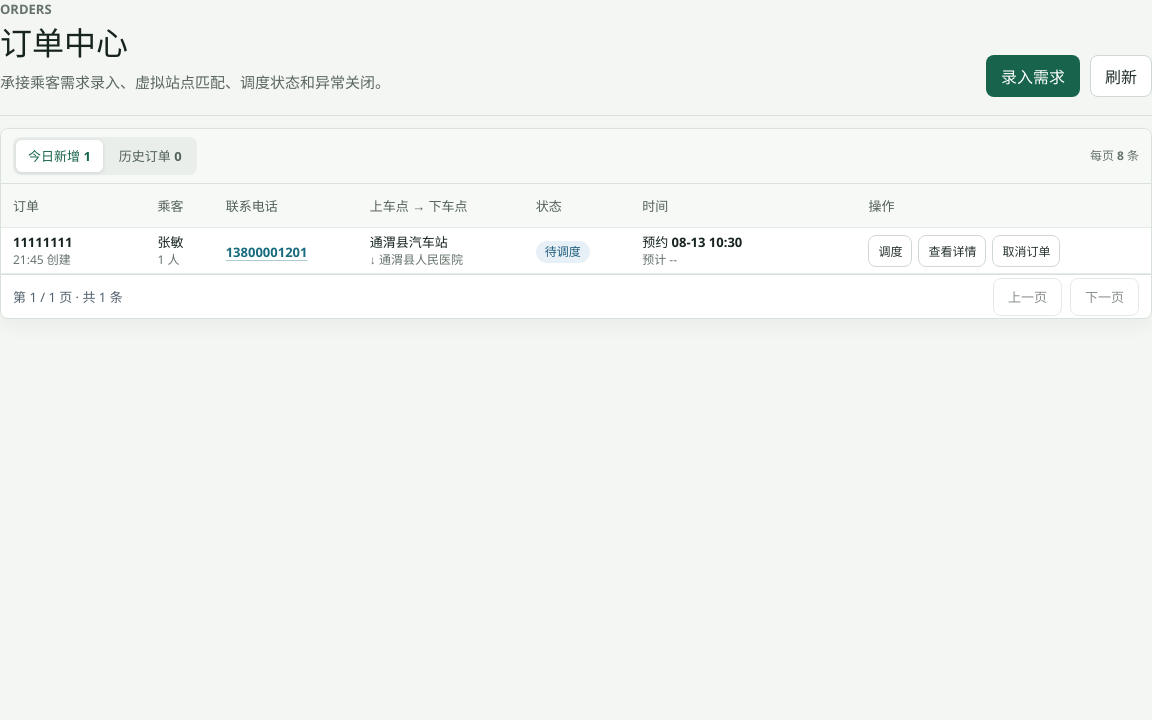
Test: OrdersPage › 确认前不取消订单，并提交填写的原因后显示成功 Toast
The image size is (1152, 720).
Click the button "取消订单" at (1026, 251), box [992,235,1060,267]
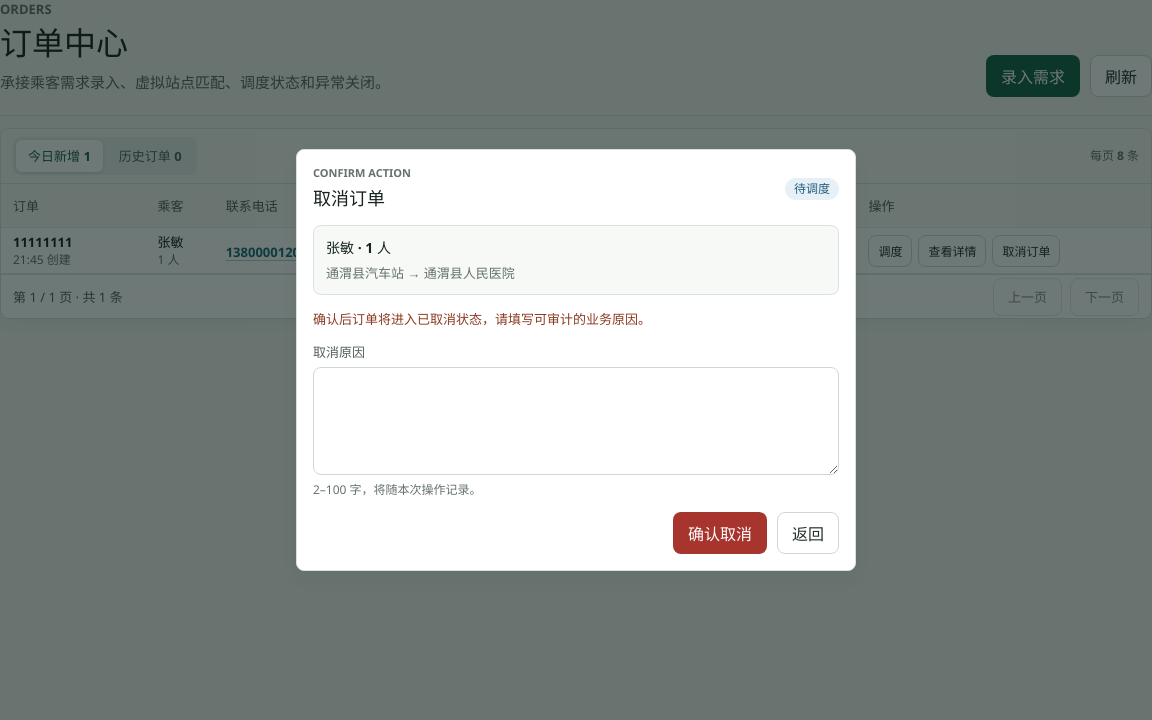
Expected: the dialog "取消订单" is shown, [296,149,856,571]
Type "乘客临时调整行程" into the text box labelled "取消原因" at (576, 421), box [313,367,839,475]
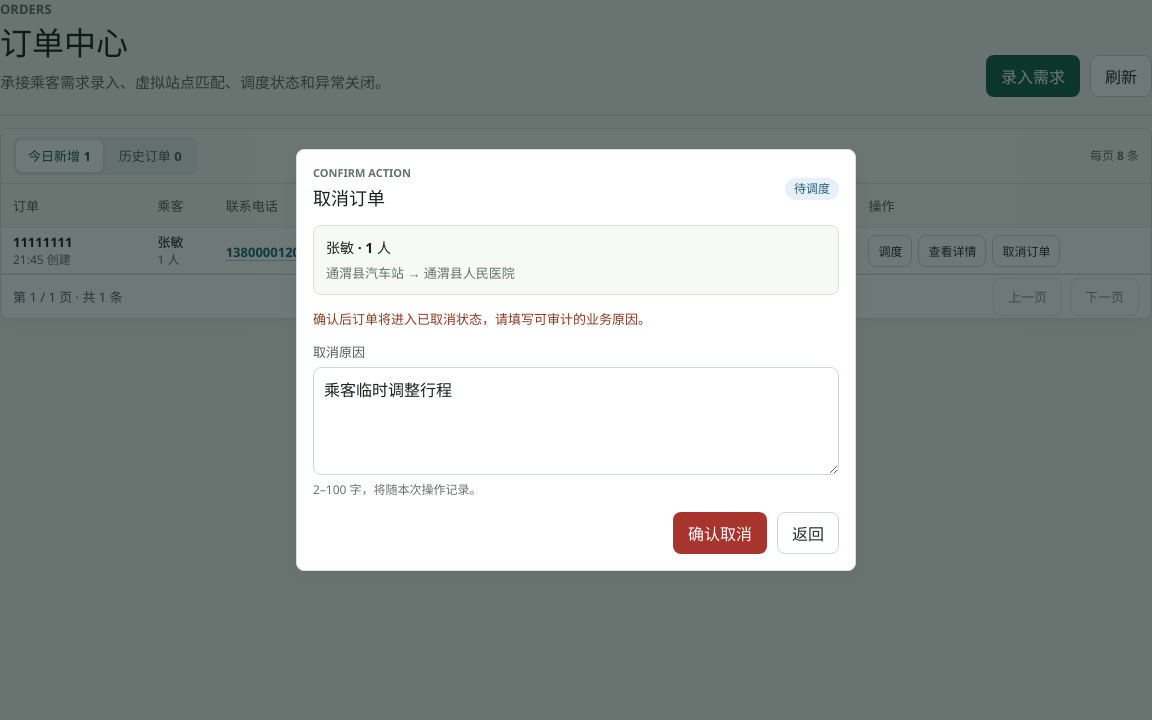
Click the button "确认取消" at (720, 533), box [673,512,767,554]
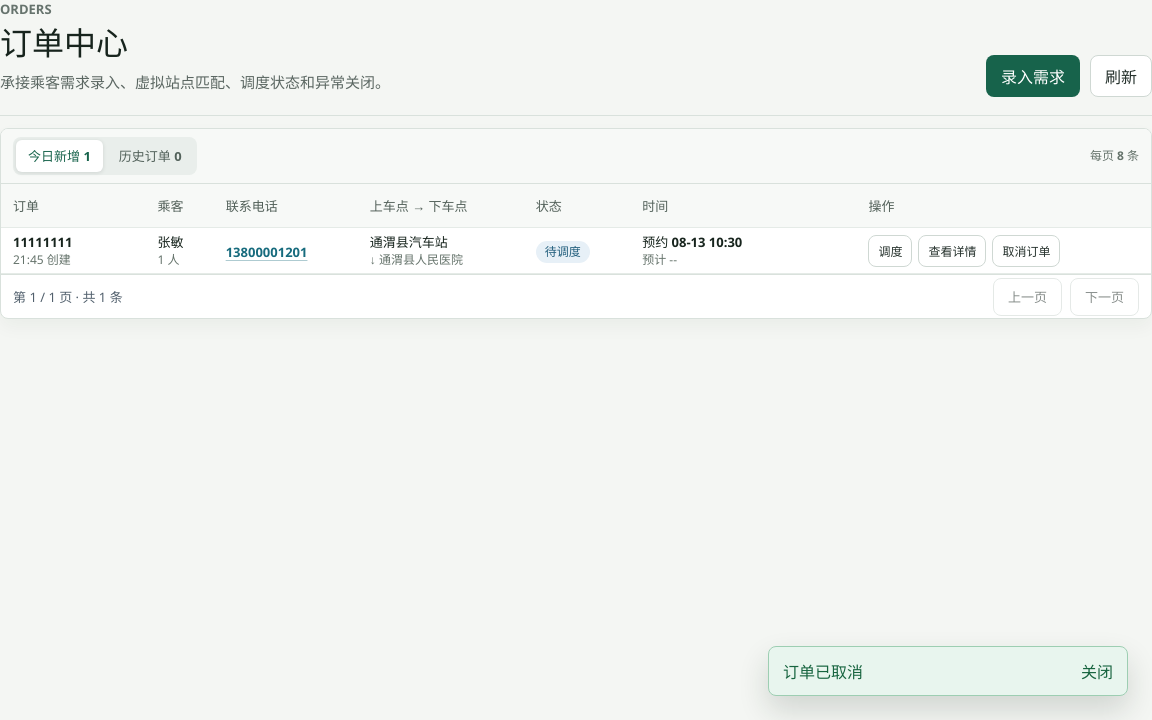
Expected: the text "订单已取消" is shown, [783,659,863,683]
